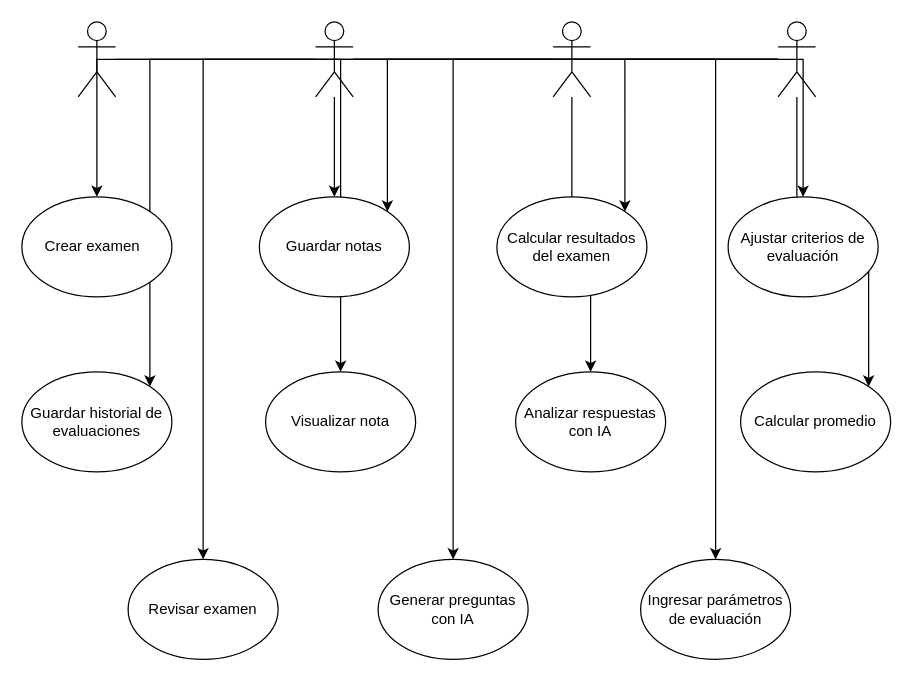
This 913x681 diagram has some shape labels left out. The shapes that lost their labels are listed below. From the top down, each one's centre as x and y in pixels, then its label:
At (96,59): "Estudiante".
At (333,59): "Profesor".
At (571,59): "Sistema IA".
At (796,59): "Página web".
